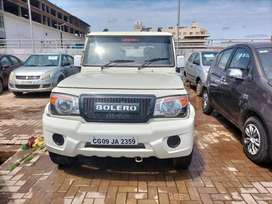CG09JA2359: (91, 136, 138, 145)
